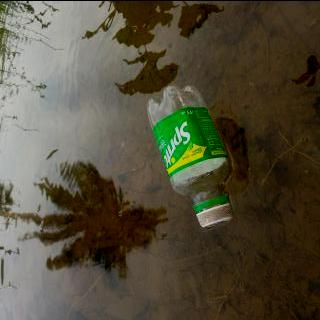bottle: (144, 81, 238, 228)
